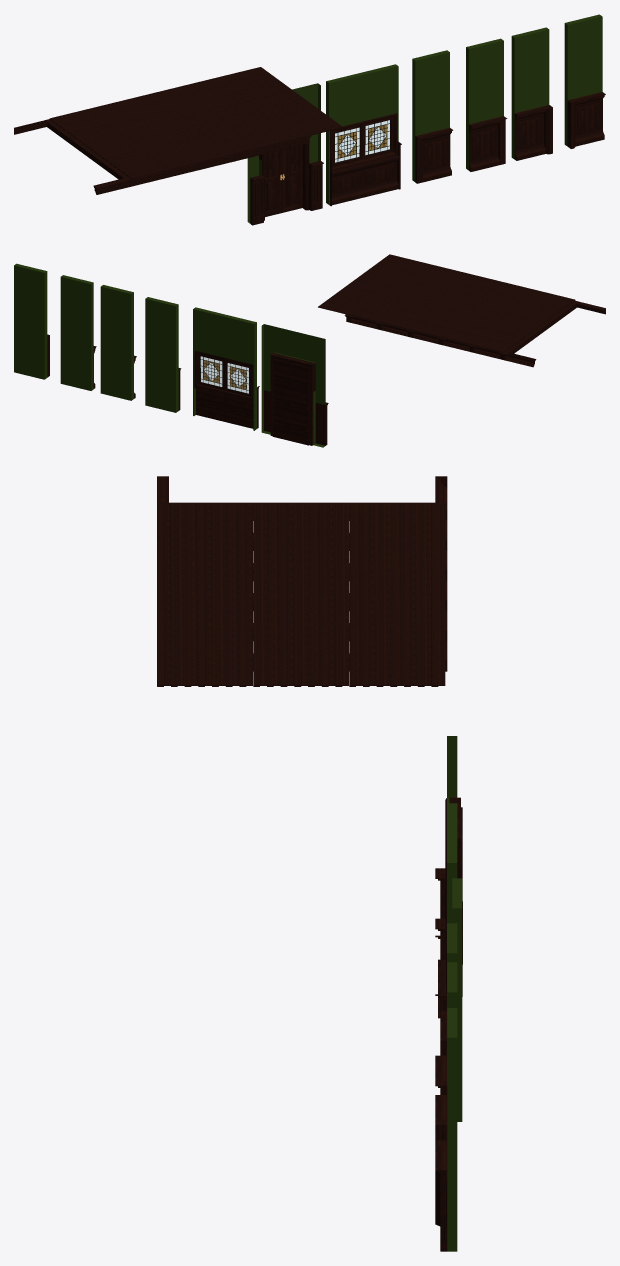
Rendered from classic_modular_walls_ceiling_fixed.glb.
3 views of the same model, one above another, from view 1: azimuth 30°, elevation 25°; view 2: azimuth 150°, elevation 25°; view 3: azimuth 270°, elevation 25° (orthographic). The views are drawn at different scales.
Visible parts, largest first — view 1: Object_9, Object_6, Object_7, Object_10, Object_12, Object_11, Object_2, Object_4, Object_8, Object_3; view 2: Object_9, Object_6, Object_7, Object_12, Object_11, Object_2, Object_4, Object_8, Object_3, Object_10; view 3: Object_6, Object_7, Object_9, Object_10, Object_8, Object_12.
Boxes of the visible parts, x1=… form: Object_9: x1=247, y1=14, x2=602, y2=223; Object_6: x1=14, y1=67, x2=340, y2=194; Object_7: x1=67, y1=82, x2=342, y2=179; Object_10: x1=415, y1=92, x2=605, y2=183; Object_12: x1=250, y1=143, x2=323, y2=225; Object_11: x1=329, y1=113, x2=401, y2=206; Object_2: x1=335, y1=120, x2=389, y2=162; Object_4: x1=335, y1=120, x2=390, y2=162; Object_8: x1=63, y1=79, x2=279, y2=133; Object_3: x1=338, y1=124, x2=386, y2=157; Object_9: x1=14, y1=263, x2=325, y2=447; Object_6: x1=318, y1=255, x2=605, y2=367; Object_7: x1=337, y1=254, x2=575, y2=341; Object_12: x1=264, y1=353, x2=328, y2=445; Object_11: x1=194, y1=350, x2=259, y2=428; Object_2: x1=201, y1=356, x2=248, y2=393; Object_4: x1=200, y1=356, x2=248, y2=393; Object_8: x1=333, y1=294, x2=516, y2=344; Object_3: x1=203, y1=360, x2=246, y2=389; Object_10: x1=47, y1=334, x2=181, y2=410; Object_6: x1=157, y1=476, x2=447, y2=686; Object_7: x1=157, y1=504, x2=383, y2=686; Object_9: x1=447, y1=736, x2=462, y2=1251; Object_10: x1=435, y1=1011, x2=447, y2=1251; Object_8: x1=376, y1=504, x2=397, y2=686; Object_12: x1=435, y1=797, x2=462, y2=996.
Bounding box in the file's own units: 17.41 × 4.39 × 4.46.
Materials: 7 (3 with a texture image).
